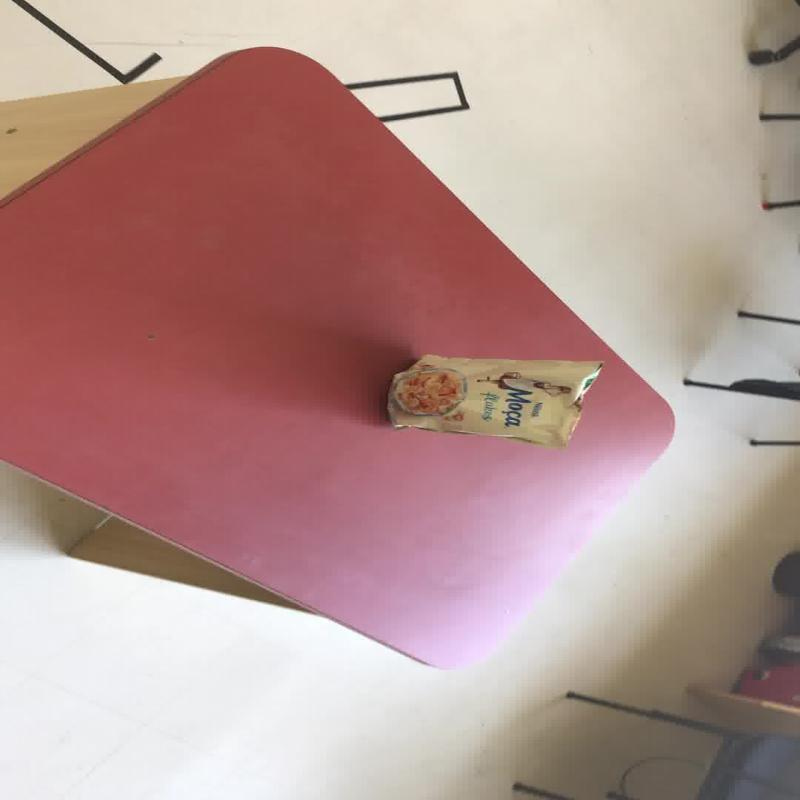corn flakes: (383, 353, 604, 449)
